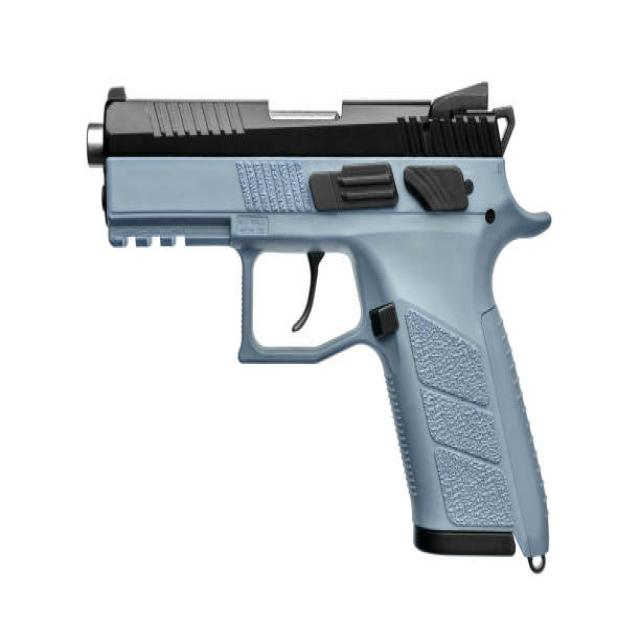pistol: (81, 83, 565, 584)
